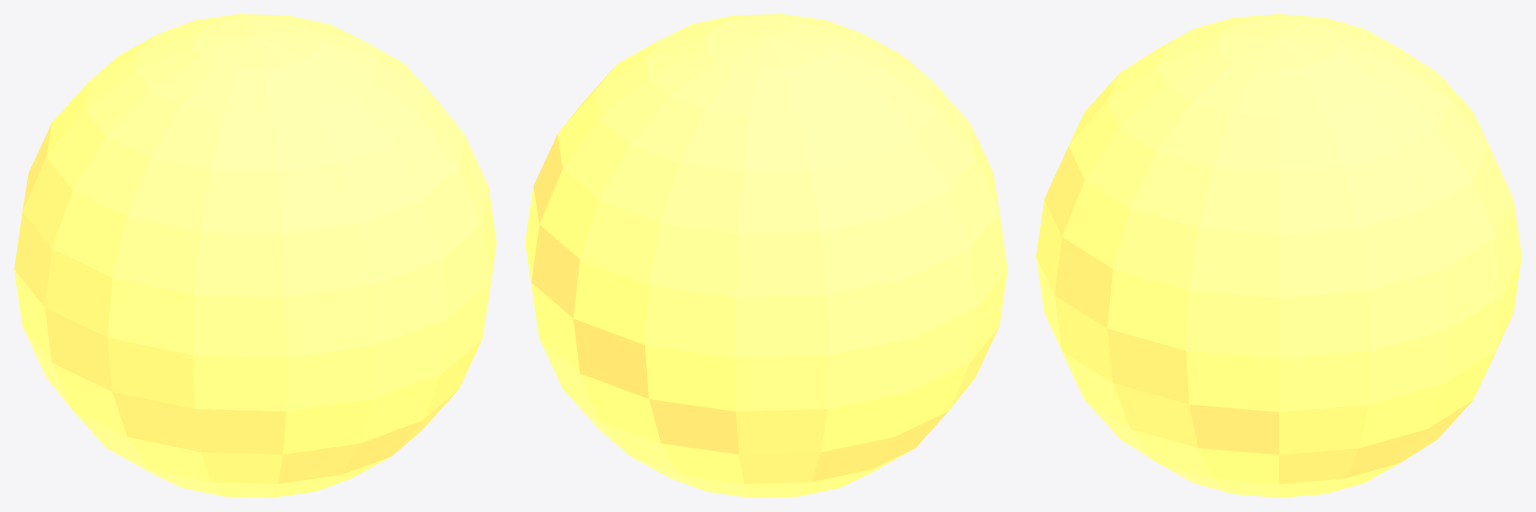
The model's file is prop_lantern_workshop.glb.
3 renders of one model, left to right at view 1: azimuth 30°, elevation 25°; view 2: azimuth 150°, elevation 25°; view 3: azimuth 270°, elevation 25°, orthographic.
Visible parts, largest first — view 1: PROP_Lantern_Workshop; view 2: PROP_Lantern_Workshop; view 3: PROP_Lantern_Workshop.
Part boxes in pixels (<box>): PROP_Lantern_Workshop: <box>14,14,496,497</box>; PROP_Lantern_Workshop: <box>525,14,1007,497</box>; PROP_Lantern_Workshop: <box>1036,14,1521,497</box>.
Size of the model in its own units: 0.5 by 0.5 by 0.5.
